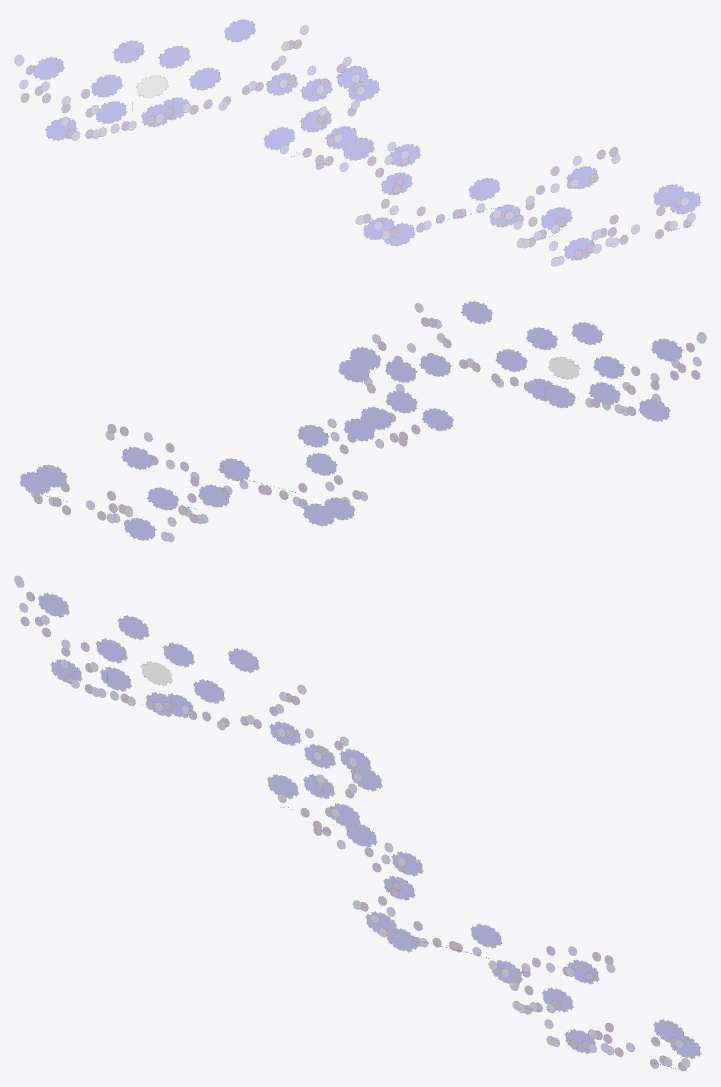
Rendered from snow01_bg.glb.
3 renders of one model, top to bottom at view 1: azimuth 30°, elevation 25°; view 2: azimuth 150°, elevation 25°; view 3: azimuth 330°, elevation 25°, orthographic.
Parts seen in each view (by area): view 1: snow01_bg; view 2: snow01_bg; view 3: snow01_bg.
Part boxes in pixels (bbox=[...]): snow01_bg: bbox=[14, 19, 701, 266]; snow01_bg: bbox=[19, 301, 706, 542]; snow01_bg: bbox=[14, 575, 701, 1071].
Bounding box in the file's own units: 7580 × 3601 × 288.
Materials: 10 (10 with a texture image).
